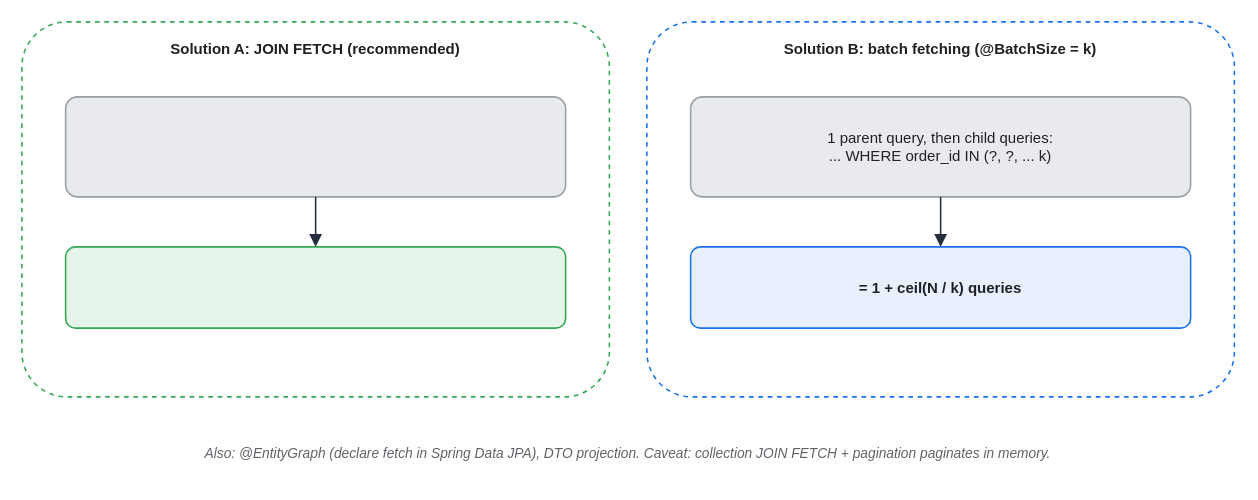
Image size: 1258x500. Some labels were removed from this diagram. Here are the shapes that lost their labels. From the top down, the centre of each, then its label:
At (315,146): "SELECT o FROM Order o JOIN FETCH o.items".
At (315,287): "= 1 query (parent + children joined)".
